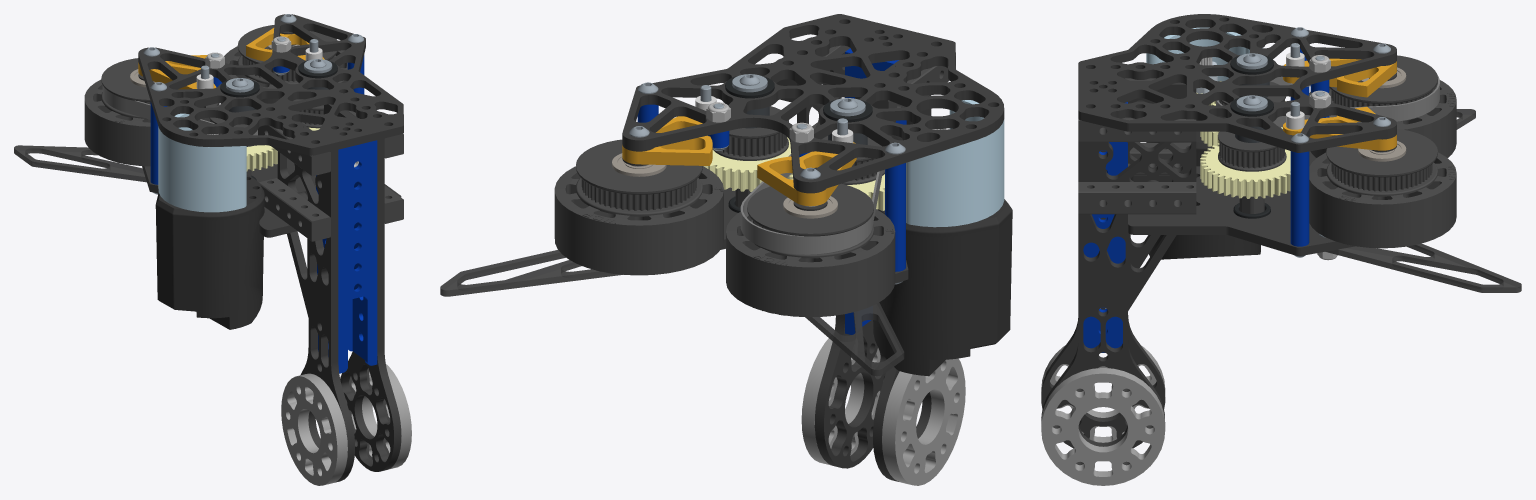
The picture shows the model from 3 angles, left to right: view 1: azimuth 30°, elevation 25°; view 2: azimuth 150°, elevation 25°; view 3: azimuth 270°, elevation 25°; orthographic projection. The views are drawn at different scales.
Visible parts, largest first — view 1: 6328-25C-0713 Top Plate, 6328-25C-0717 Arm Side Plate (×2), Kraken X60 Brushless Motor, 6328-25C-0719 Arm Vertical Tube, 6328-25C-0718 Arm Side Spacer (×2), Part 18, Aluminum Nutstrip, #10-32, .500" Spacing (WCP-0336) (×4), WCP-1360 (×2), 55T GT2 Pulley 9mm Wide (×2), 6328-25C-0715 Left Alignment Fin, 6328-25C-0712 Bottom Plate, 6328-25C-0714 Latch (×2) (+4 smaller); view 2: 6328-25C-0713 Top Plate, WCP-1360 (×2), Kraken X60 Brushless Motor, 55T GT2 Pulley 9mm Wide (×2), 6328-25C-0718 Arm Side Spacer (×2), 6328-25C-0717 Arm Side Plate (×2), Part 18, 6328-25C-0714 Latch (×2), 6328-25C-0716 Right Alignment Fin, 95T GT2 Belt, 6328-25C-0715 Left Alignment Fin, 36T GT2 Pulley 9mm Wide (+6 smaller); view 3: 6328-25C-0713 Top Plate, 6328-25C-0717 Arm Side Plate (×2), WCP-1360 (×2), 6328-25C-0718 Arm Side Spacer (×2), 55T GT2 Pulley 9mm Wide (×2), 6328-25C-0712 Bottom Plate, Aluminum Nutstrip, #10-32, .500" Spacing (WCP-0336) (×3), 6328-25C-0716 Right Alignment Fin, 40t 20dp Aluminum 1/2" Hex Bore Gear (217-2708), 6328-25C-0714 Latch (×2), 6328-25C-0719 Arm Vertical Tube, Kraken X60 Brushless Motor (+6 smaller).
Boxes of the visible parts, x1,y1,x2,y2 form: 6328-25C-0713 Top Plate: (138, 14, 403, 155); 6328-25C-0717 Arm Side Plate (×2): (277, 104, 401, 482); Kraken X60 Brushless Motor: (155, 134, 264, 329); 6328-25C-0719 Arm Vertical Tube: (316, 140, 377, 373); 6328-25C-0718 Arm Side Spacer (×2): (281, 364, 411, 485); Part 18: (158, 113, 246, 212); Aluminum Nutstrip, #10-32, .500" Spacing (WCP-0336) (×4): (258, 110, 403, 241); WCP-1360 (×2): (84, 46, 347, 166); 55T GT2 Pulley 9mm Wide (×2): (101, 25, 337, 119); 6328-25C-0715 Left Alignment Fin: (14, 145, 146, 182); 6328-25C-0712 Bottom Plate: (142, 158, 401, 237); 6328-25C-0714 Latch (×2): (138, 28, 324, 89); 6328-25C-0713 Top Plate: (622, 14, 1004, 191); WCP-1360 (×2): (554, 166, 895, 317); Kraken X60 Brushless Motor: (873, 128, 1012, 376); 55T GT2 Pulley 9mm Wide (×2): (576, 139, 873, 258); 6328-25C-0718 Arm Side Spacer (×2): (801, 338, 965, 485); 6328-25C-0717 Arm Side Plate (×2): (797, 45, 931, 481); Part 18: (906, 100, 1004, 227); 6328-25C-0714 Latch (×2): (622, 116, 856, 206); 6328-25C-0716 Right Alignment Fin: (440, 250, 622, 296); 95T GT2 Belt: (740, 154, 883, 254); 6328-25C-0715 Left Alignment Fin: (805, 302, 904, 376); 36T GT2 Pulley 9mm Wide: (712, 106, 788, 160); 6328-25C-0713 Top Plate: (1078, 14, 1396, 152); 6328-25C-0717 Arm Side Plate (×2): (1041, 80, 1196, 465); WCP-1360 (×2): (1308, 80, 1456, 248); 6328-25C-0718 Arm Side Spacer (×2): (1041, 345, 1165, 485); 55T GT2 Pulley 9mm Wide (×2): (1326, 55, 1437, 196); 6328-25C-0712 Bottom Plate: (1128, 151, 1354, 255); Aluminum Nutstrip, #10-32, .500" Spacing (WCP-0336) (×3): (1078, 117, 1196, 214); 6328-25C-0716 Right Alignment Fin: (1325, 243, 1521, 292); 40t 20dp Aluminum 1/2" Hex Bore Gear (217-2708): (1200, 143, 1290, 198); 6328-25C-0714 Latch (×2): (1283, 58, 1396, 150); 6328-25C-0719 Arm Vertical Tube: (1083, 102, 1127, 352); Kraken X60 Brushless Motor: (1146, 57, 1260, 259).
Bounding box in the file's own units: 0.2159 × 0.2213 × 0.2458.
